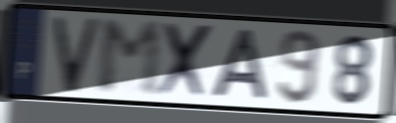8: (331, 32, 375, 109)
9: (276, 28, 321, 107)
A: (207, 27, 271, 103)
M: (97, 19, 164, 99)
V: (50, 14, 103, 95)
X: (157, 20, 216, 102)
